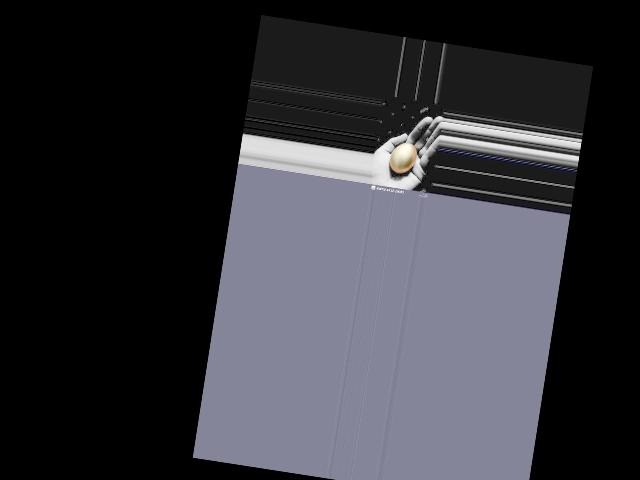egg: (388, 140, 418, 174)
